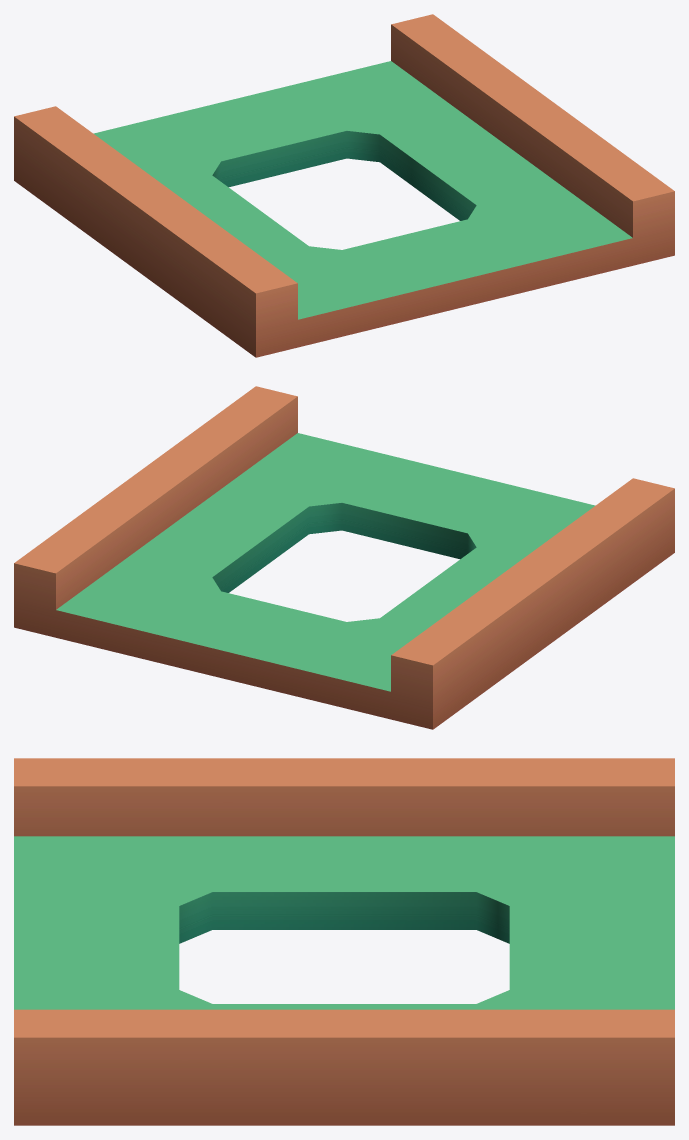
File: gap.glb
3 renders of one model, top to bottom at view 1: azimuth 30°, elevation 25°; view 2: azimuth 150°, elevation 25°; view 3: azimuth 270°, elevation 25°, orthographic. The views are drawn at different scales.
Parts seen in each view (by area): view 1: gap; view 2: gap; view 3: gap.
Boxes of the visible parts, x1,y1,x2,y2 form: gap: (14,14,674,357); gap: (14,386,674,729); gap: (14,758,674,1125).
Size of the model in its own units: 0.9999 by 0.1466 by 0.9999.
Materials: 1 (1 with a texture image).
